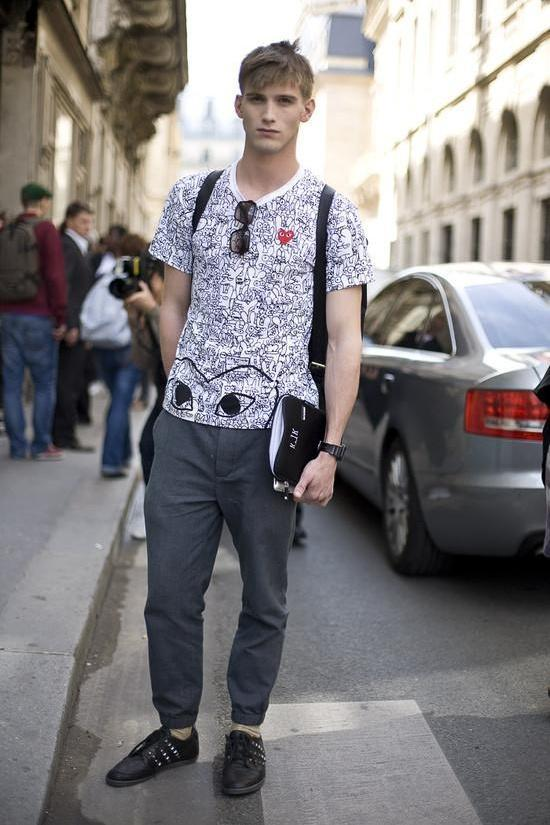Tshirt: (148, 155, 376, 426)
pants: (142, 413, 296, 730)
